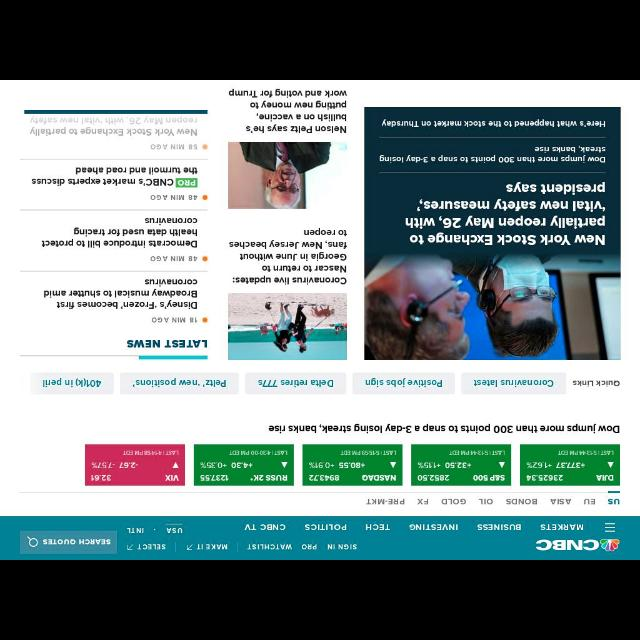icon: (604, 520, 616, 534), (184, 542, 194, 552), (605, 460, 617, 468), (498, 460, 506, 470), (281, 459, 289, 468), (126, 543, 134, 551), (171, 462, 179, 470), (389, 459, 396, 468)
image: (365, 252, 619, 360), (228, 293, 346, 359), (228, 141, 346, 207), (600, 537, 622, 553)
multitab: (236, 518, 590, 538), (353, 491, 622, 513), (122, 538, 360, 556)
text: (405, 176, 605, 247), (228, 226, 346, 286), (228, 82, 348, 136), (42, 276, 198, 312), (40, 216, 198, 250), (378, 144, 606, 164), (268, 422, 620, 434), (28, 115, 200, 139), (380, 116, 606, 130), (31, 177, 175, 190), (74, 165, 198, 178), (124, 338, 210, 350), (536, 538, 598, 552), (524, 460, 586, 472), (409, 520, 461, 534), (308, 458, 366, 470), (475, 520, 523, 534), (556, 447, 614, 458), (150, 192, 198, 204), (416, 460, 472, 470), (150, 254, 196, 266), (199, 459, 253, 469), (122, 448, 182, 457), (339, 448, 398, 457), (305, 522, 349, 534), (243, 521, 287, 533), (246, 542, 294, 552), (228, 448, 288, 456), (572, 378, 620, 388), (150, 314, 198, 324), (448, 448, 506, 456), (540, 522, 586, 532), (365, 496, 407, 506), (90, 461, 140, 469), (472, 474, 504, 486), (150, 142, 198, 150), (249, 472, 287, 482), (364, 520, 392, 532), (525, 474, 563, 482), (328, 541, 357, 551), (506, 498, 540, 506), (362, 474, 396, 482), (196, 542, 228, 550), (136, 543, 168, 551), (418, 474, 450, 482), (309, 473, 341, 481), (90, 472, 112, 483), (200, 474, 228, 482), (441, 498, 465, 507), (596, 473, 614, 483), (549, 497, 571, 505), (301, 542, 319, 550), (164, 474, 180, 482), (608, 498, 620, 508), (165, 527, 183, 533), (128, 528, 146, 534), (584, 497, 596, 505), (416, 498, 429, 504), (480, 498, 492, 504)
textbutton: (119, 372, 237, 394), (22, 530, 116, 554), (460, 372, 566, 393), (354, 372, 454, 394), (245, 373, 345, 395), (30, 372, 114, 392)
